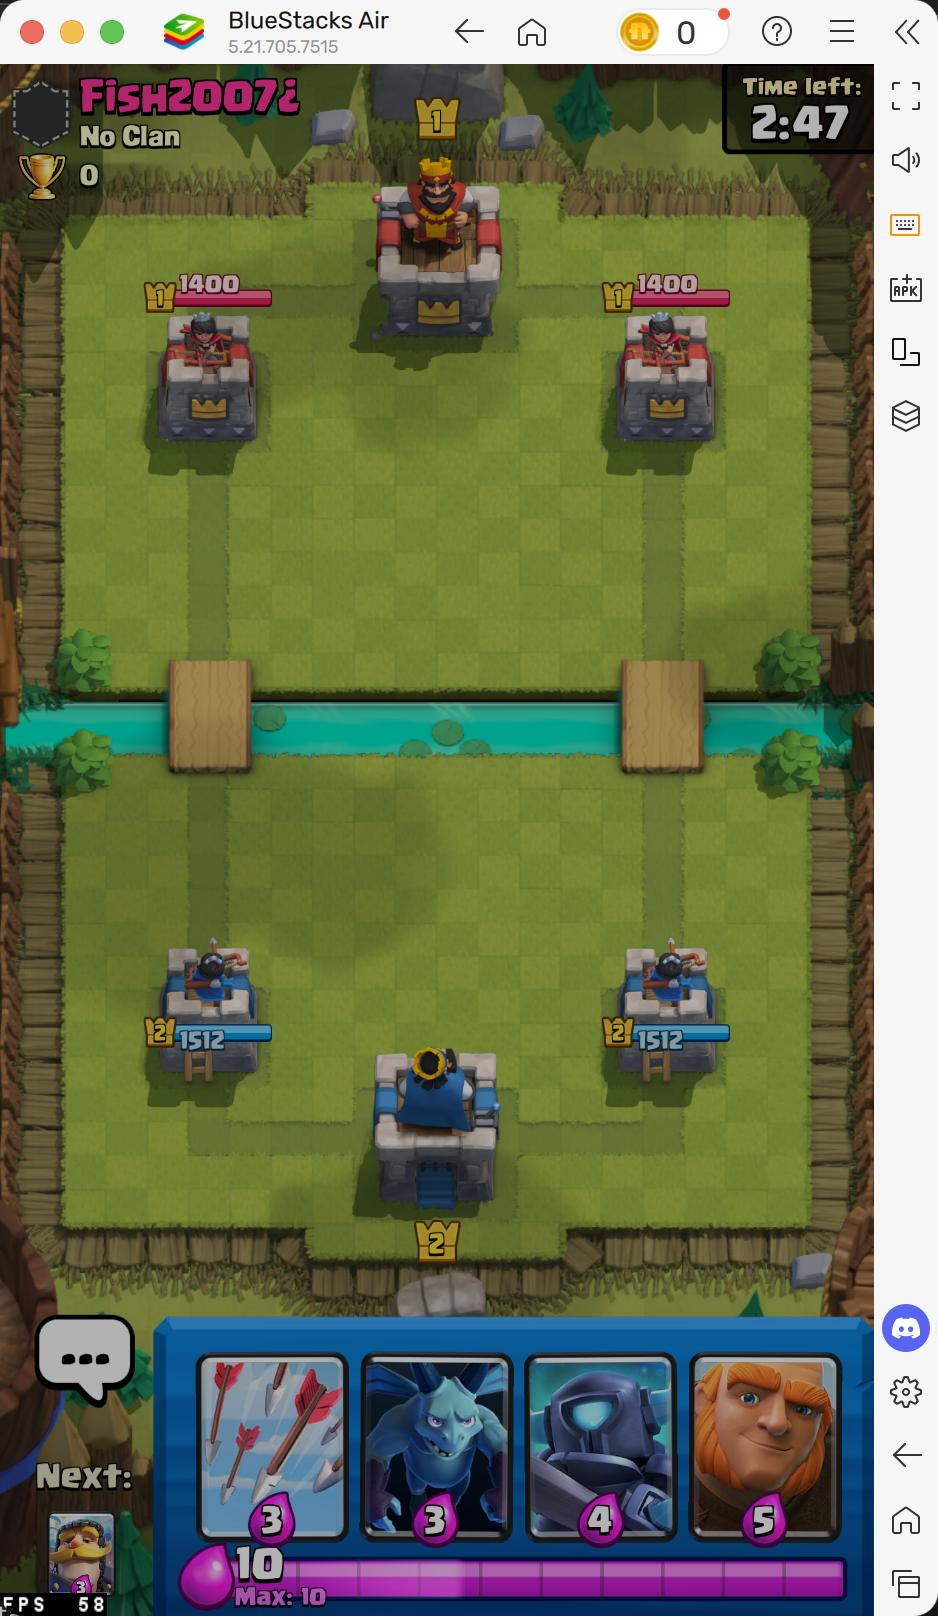0: (250, 1545, 286, 1584), (221, 272, 241, 295), (203, 273, 223, 295), (662, 272, 681, 295), (680, 273, 699, 295)
1: (234, 1543, 253, 1584), (178, 272, 190, 295), (201, 1029, 212, 1051), (636, 1029, 648, 1051), (636, 272, 648, 295), (179, 1029, 189, 1051), (660, 1029, 670, 1051)
2: (749, 102, 778, 142), (210, 1029, 226, 1051), (669, 1029, 683, 1051)
3: (256, 1500, 286, 1539), (420, 1500, 450, 1539), (74, 1578, 88, 1597)
4: (791, 103, 824, 141), (584, 1501, 618, 1539), (186, 272, 205, 295), (647, 272, 663, 295)
5: (749, 1502, 777, 1539), (645, 1029, 662, 1052), (188, 1029, 203, 1052)
7: (823, 103, 850, 141)
Enemy Tower: (155, 312, 259, 443), (613, 312, 717, 442)
Friendly Tower: (157, 944, 260, 1075), (618, 944, 718, 1074)
